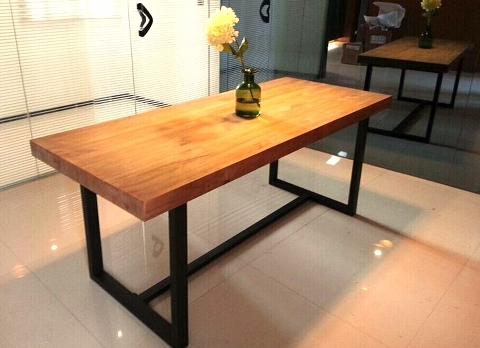meja: (29, 76, 392, 348)
